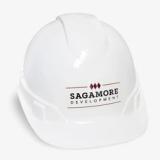Helmet: (17, 12, 149, 150)
